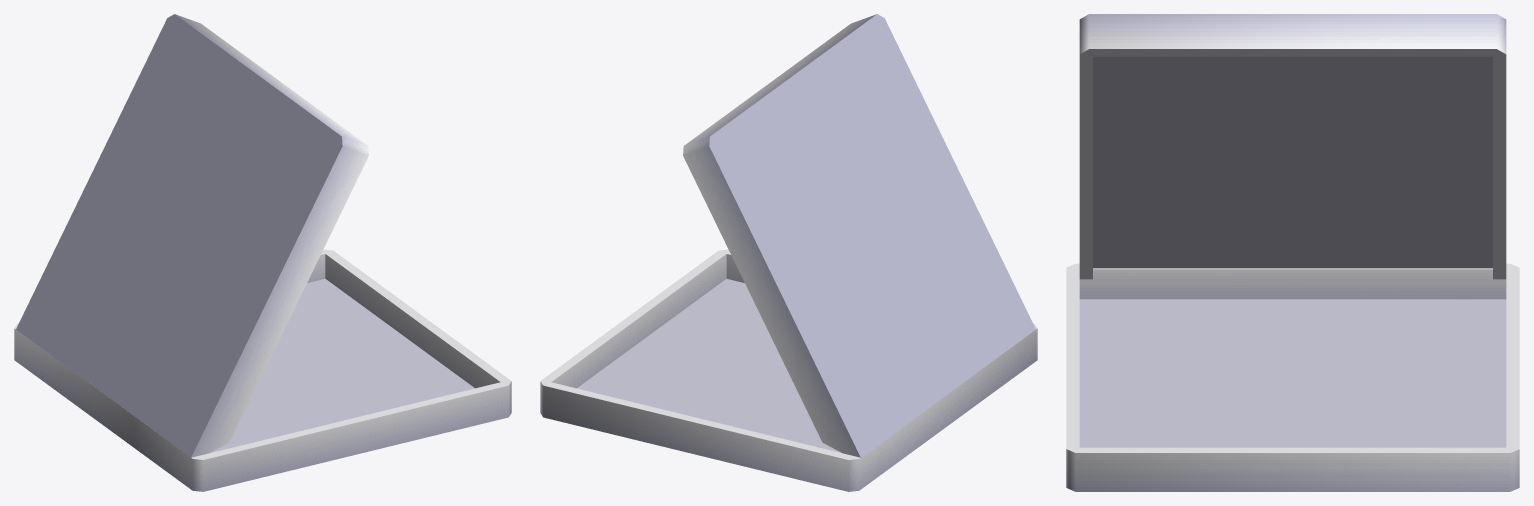
The model's file is k-food-pizza-box.glb.
3 views of the same model, side by side, from view 1: azimuth 30°, elevation 25°; view 2: azimuth 150°, elevation 25°; view 3: azimuth 270°, elevation 25° (orthographic). The views are drawn at different scales.
Visible parts, largest first — view 1: lid, pizza-box; view 2: lid, pizza-box; view 3: lid, pizza-box.
Boxes of the visible parts, left/top/right/bottom form: lid: left=16, top=14, right=368, bottom=457; pizza-box: left=14, top=249, right=511, bottom=491; lid: left=683, top=14, right=1035, bottom=457; pizza-box: left=540, top=249, right=1037, bottom=491; lid: left=1079, top=14, right=1506, bottom=279; pizza-box: left=1066, top=263, right=1519, bottom=491.
Size of the model in its own units: 0.3364 by 0.3149 by 0.34.
1 material, 1 textured.
